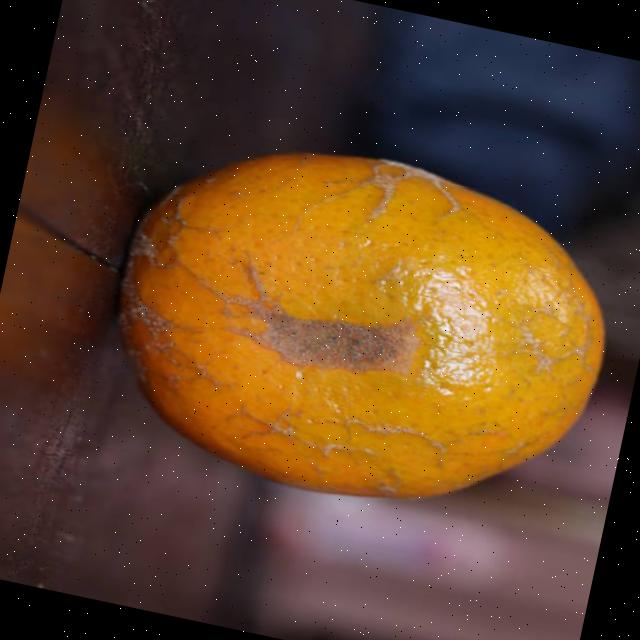overripe: (77, 103, 640, 550)
